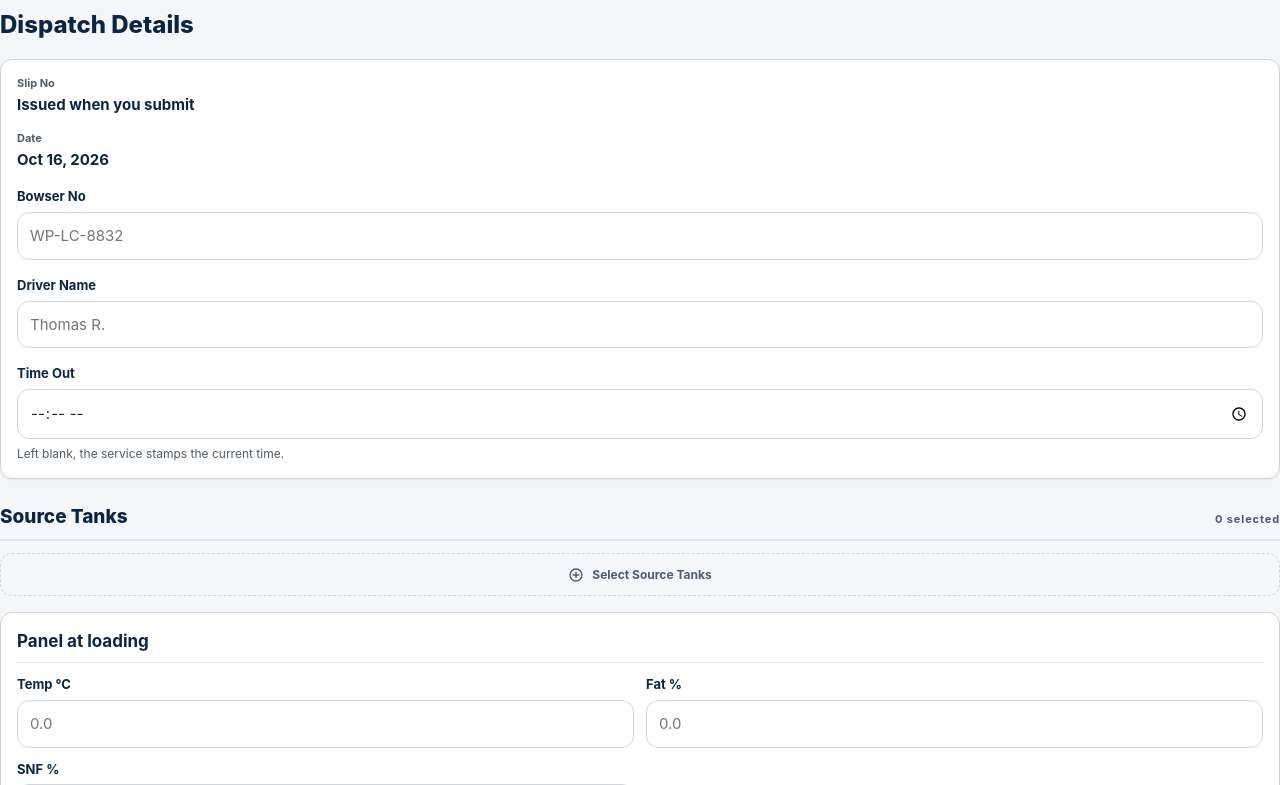
it: recording a dispatch note › warns when a draw is more than the tank is holding
Click the button "Select Source Tanks" at (640, 575), box [0,553,1279,596]
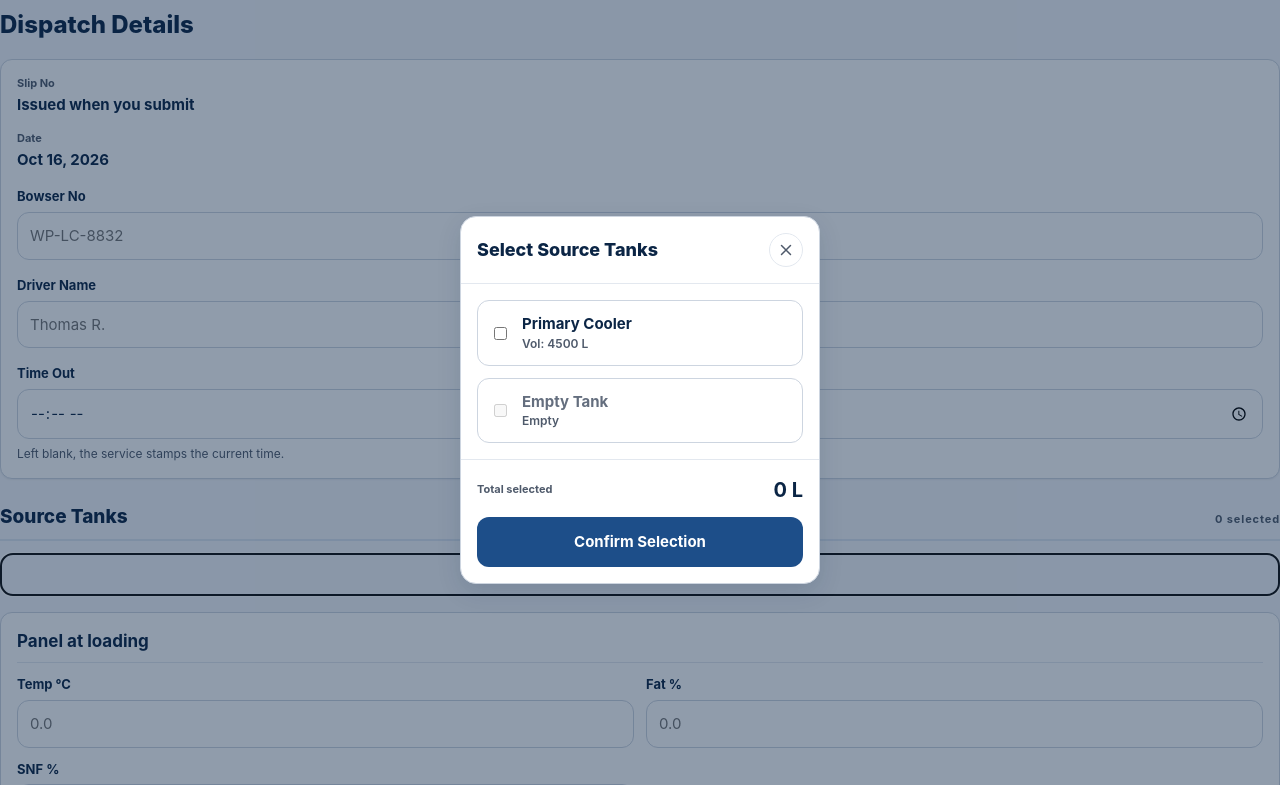
Click the checkbox labelled "Primary Cooler Vol: 4500 L" at (500, 333), box [494,326,507,340]
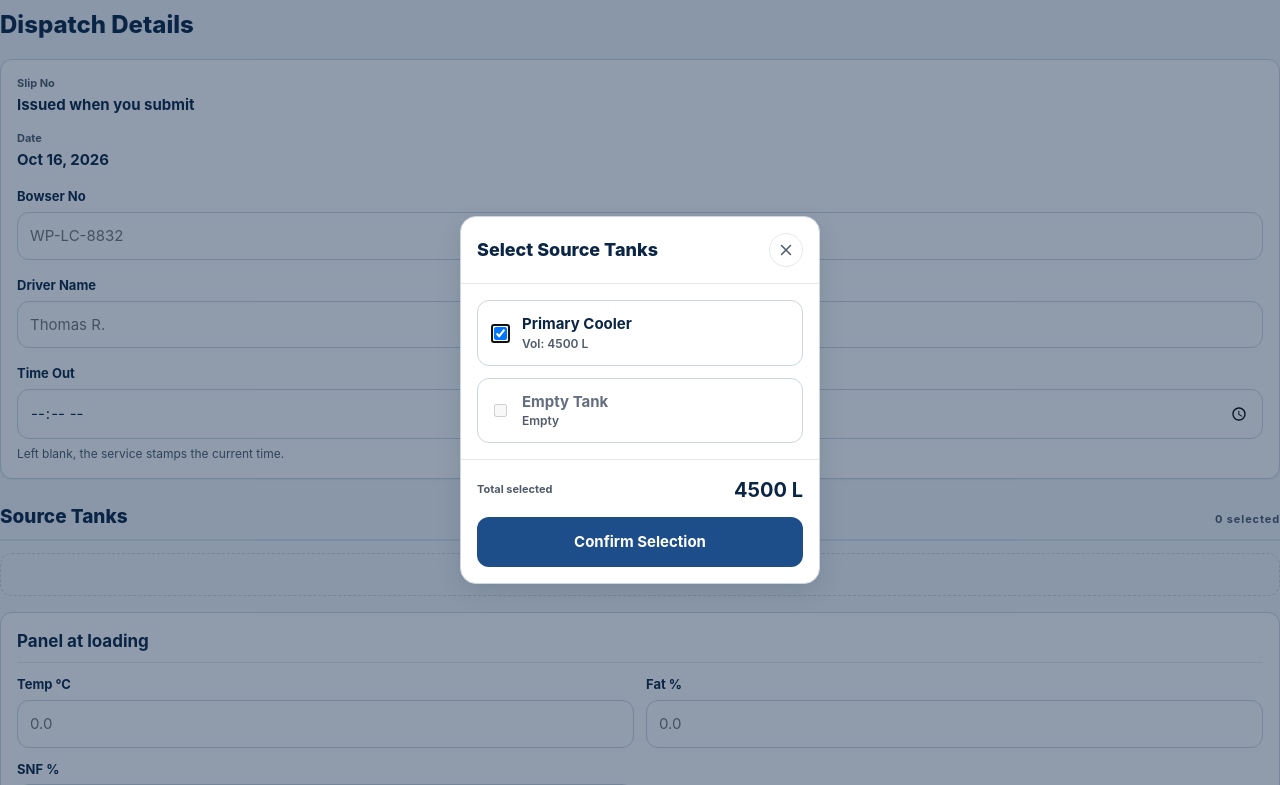
Click the button "Confirm Selection" at (640, 542), box [477,517,803,567]
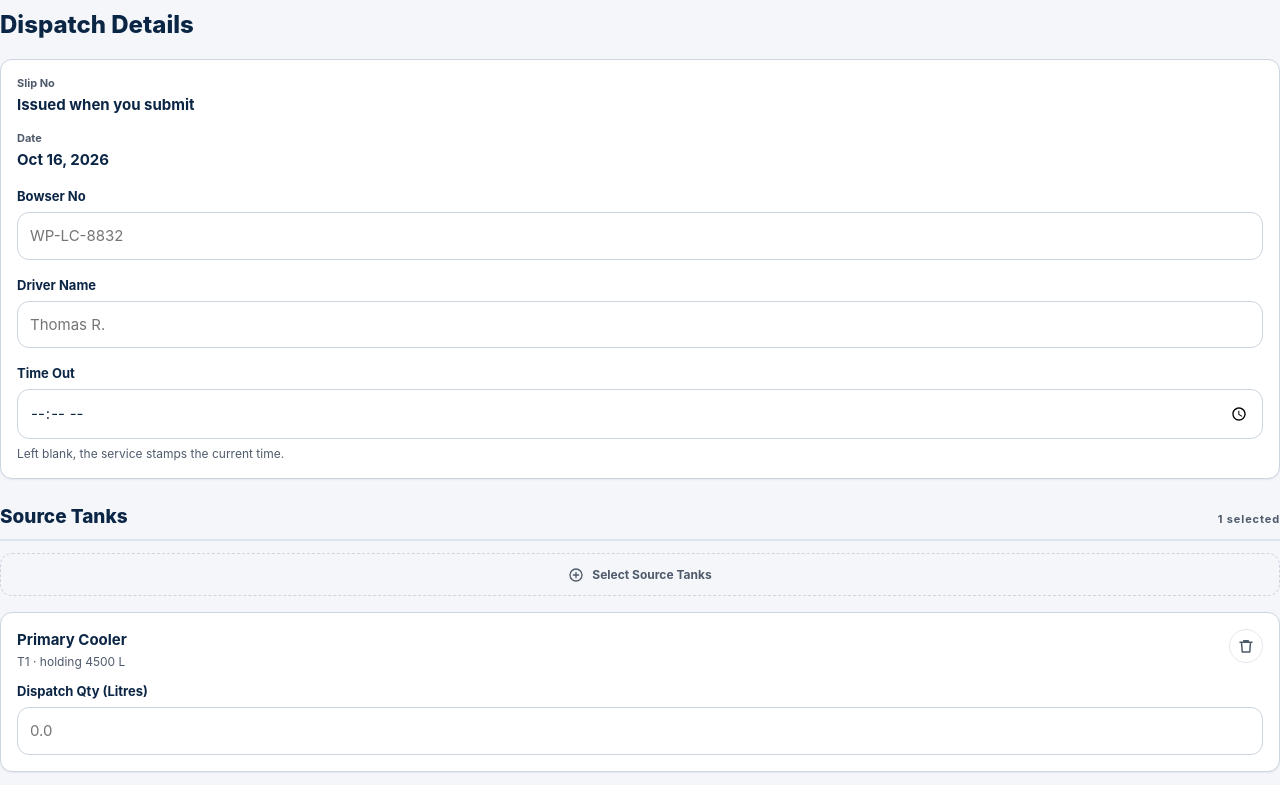
Type "9999" into the field labelled "Dispatch Qty (Litres)" at (640, 731), box [17,707,1263,755]
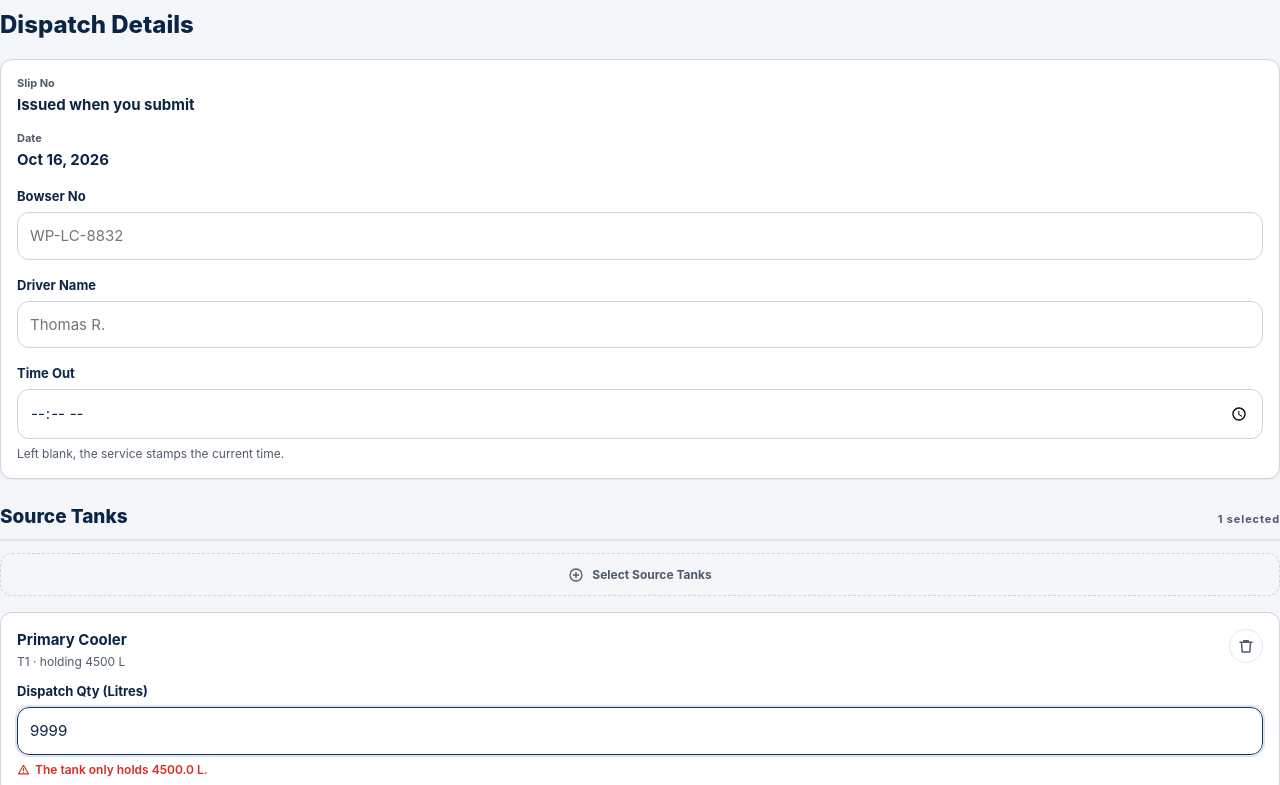
Now the text "The tank only holds 4500.0 L." is shown, box [17,762,208,777]
